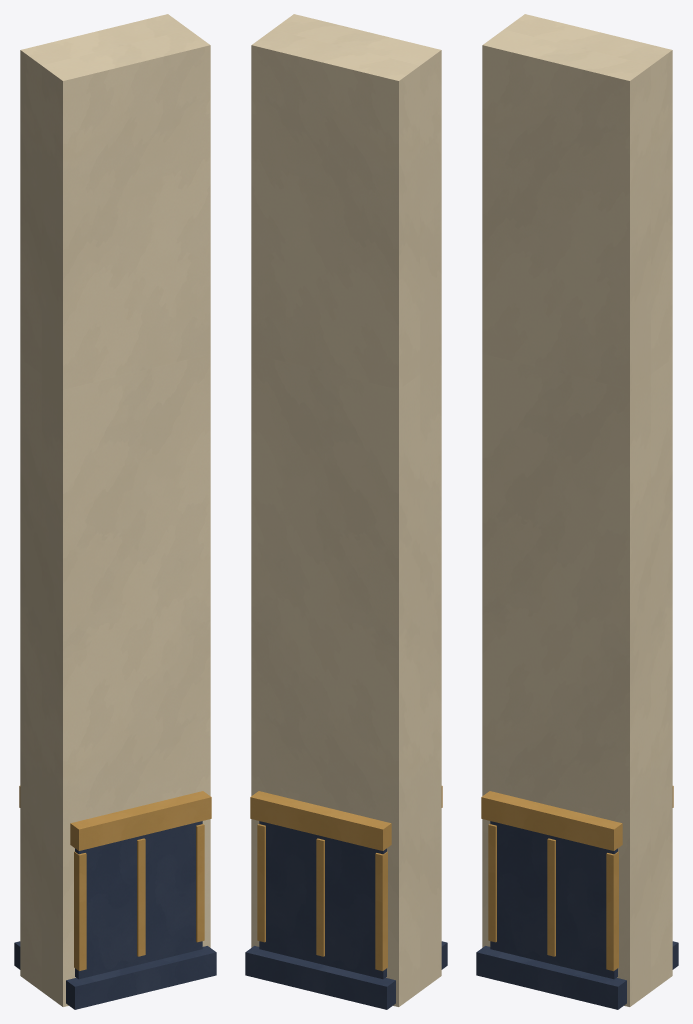
The model's file is SM_Theater_Wall_Lobby1.fbx.
3 views of the same model, side by side, from view 1: azimuth 30°, elevation 25°; view 2: azimuth 150°, elevation 25°; view 3: azimuth 330°, elevation 25° (orthographic).
Visible parts, largest first — view 1: SM_Theater_Wall_Lobby1_LOD0; view 2: SM_Theater_Wall_Lobby1_LOD0; view 3: SM_Theater_Wall_Lobby1_LOD0.
Part boxes in pixels (left/top/right/bottom): SM_Theater_Wall_Lobby1_LOD0: left=14, top=14, right=216, bottom=1009; SM_Theater_Wall_Lobby1_LOD0: left=245, top=14, right=447, bottom=1009; SM_Theater_Wall_Lobby1_LOD0: left=476, top=14, right=678, bottom=1009.
Size of what is drawn, in the model's own units: 1 by 6 by 0.71.
